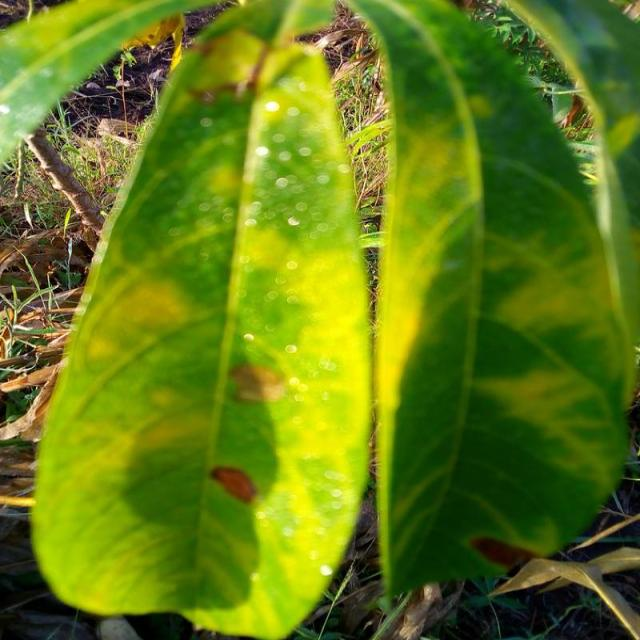cassava leaf: (29, 22, 374, 637), (352, 0, 634, 608)
